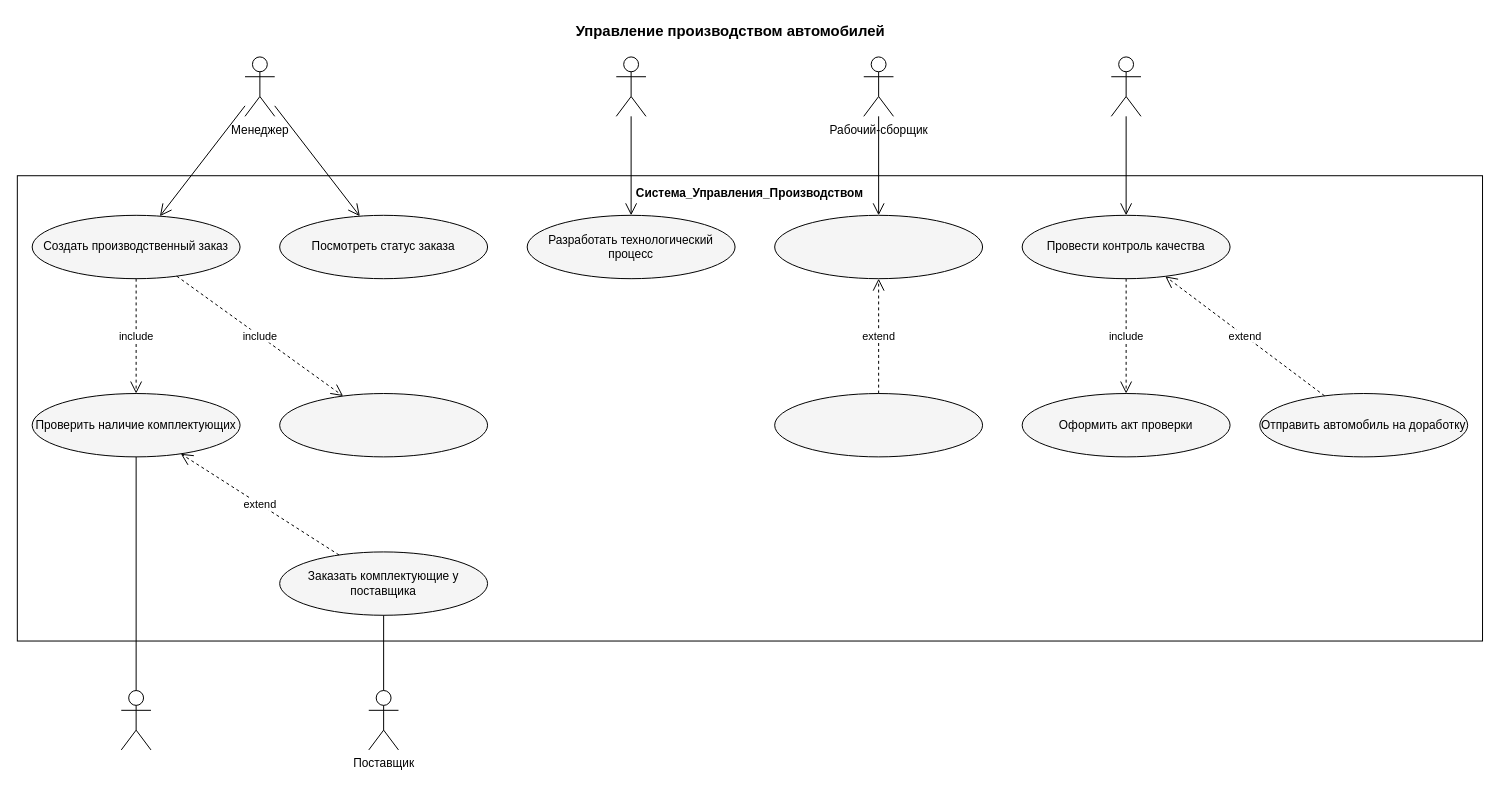
Image size: 1500x787. Some labels were removed from this diagram. Each missing label, with the centre of its shape:
"Выполнить сборку автомобиля" goes at (x=878, y=246).
"Инженер-технолог" goes at (x=630, y=86).
"Контролёр ОТК" goes at (x=1125, y=86).
"Сервис_Склад" goes at (x=135, y=720).
"Сообщить о неисправности линии" goes at (x=878, y=425).
"Сформировать план производства" goes at (x=383, y=425).
